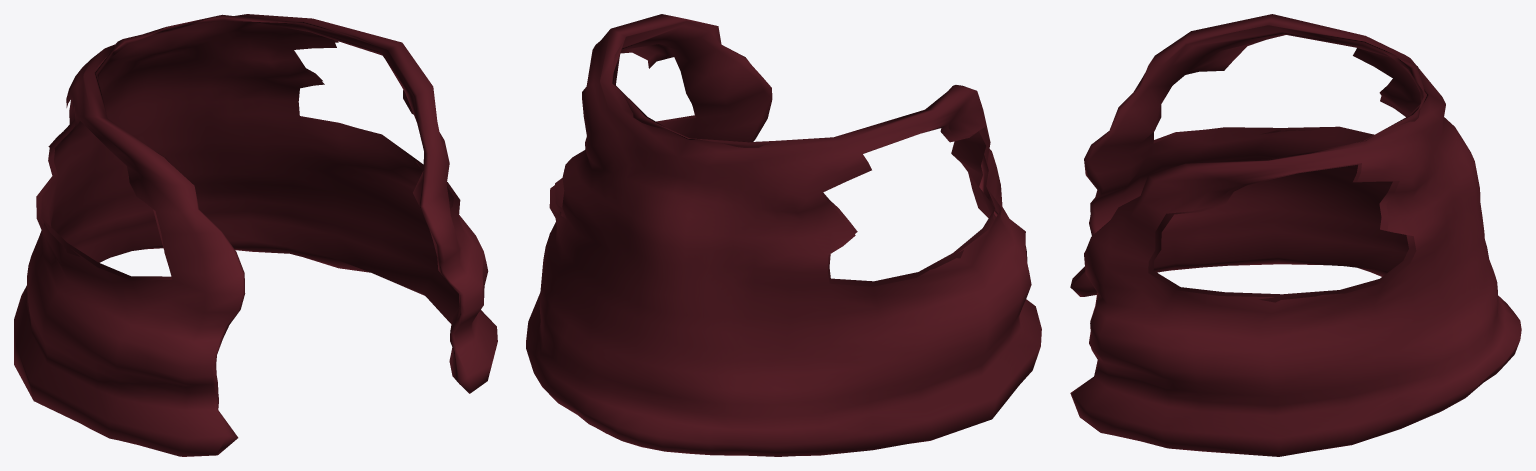
Rendered from ropa_rebeca.glb.
3 views of the same model, side by side, from view 1: azimuth 30°, elevation 25°; view 2: azimuth 150°, elevation 25°; view 3: azimuth 270°, elevation 25° (orthographic). The views are drawn at different scales.
Visible parts, largest first — view 1: pieza; view 2: pieza; view 3: pieza.
Boxes of the visible parts, x1,y1,x2,y2 form: pieza: [14, 14, 497, 456]; pieza: [526, 14, 1041, 456]; pieza: [1070, 14, 1521, 456].
Bounding box in the file's own units: 1.13 × 0.7129 × 1.06.
